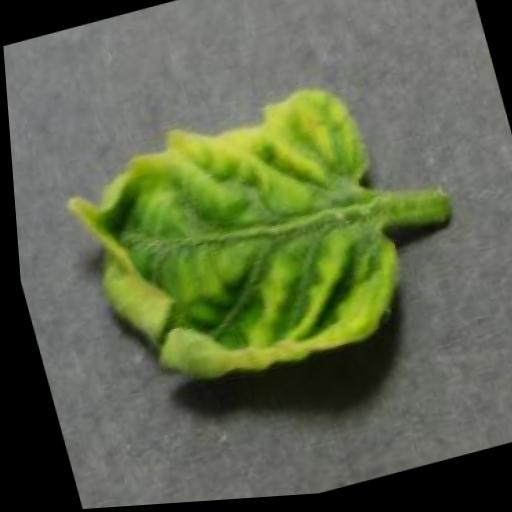Yellow Leaf Curl Virus: (46, 76, 418, 412)
